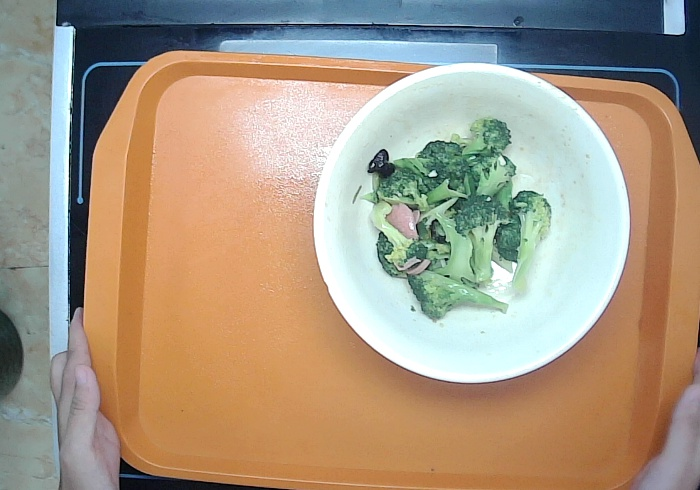ZNLD-Da_Tang_Wan: (311, 59, 632, 382)
